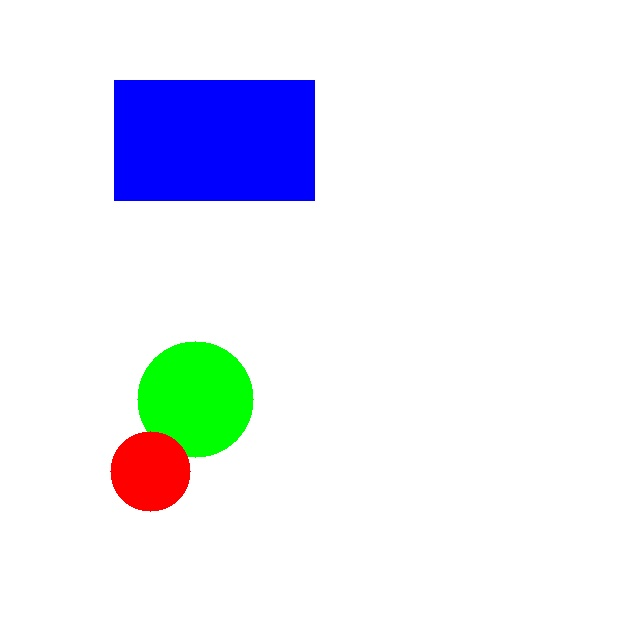cartao: (114, 80, 314, 200)
rosca_externa: (137, 341, 253, 457)
rosca_interna: (110, 431, 190, 511)
